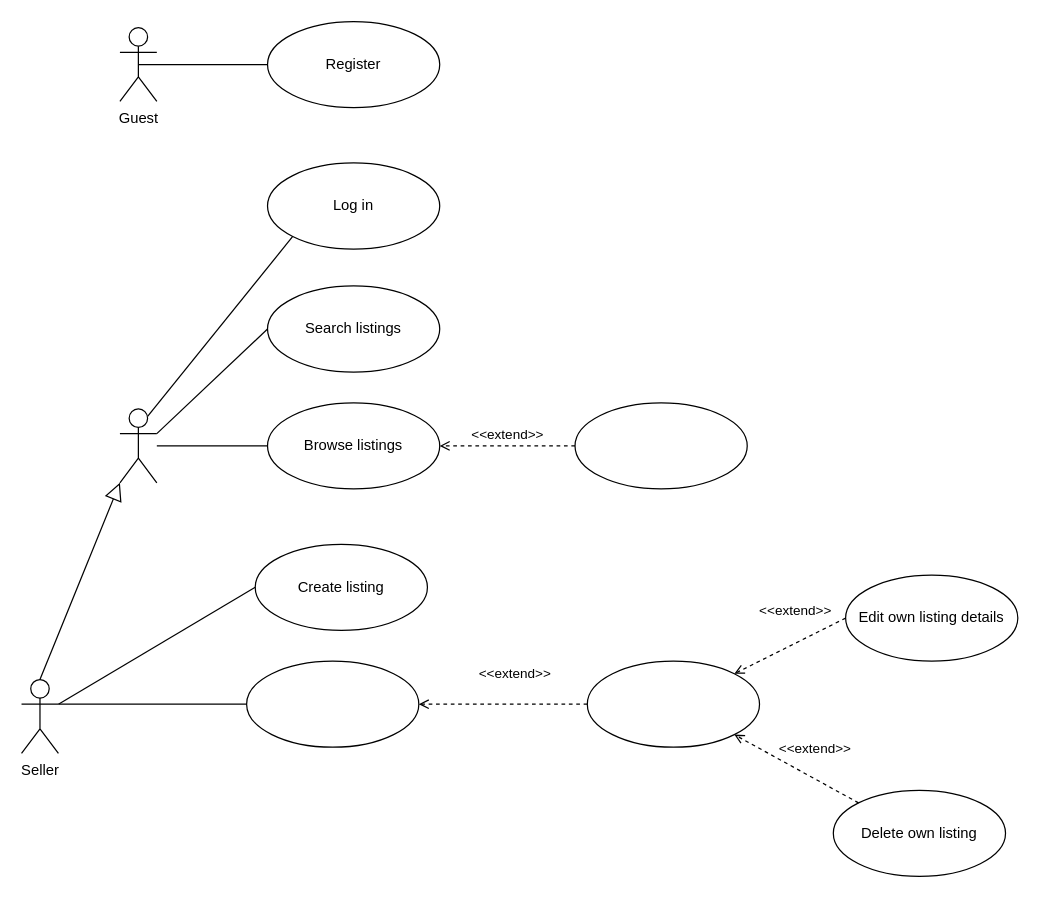
Image size: 1039x898. Some labels were removed from this diagram. Each missing label, with the centre of its shape:
"User" goes at (138,445).
"View listing details" goes at (660,445).
"View own listing details" goes at (673,703).
"View own listings" goes at (332,703).
